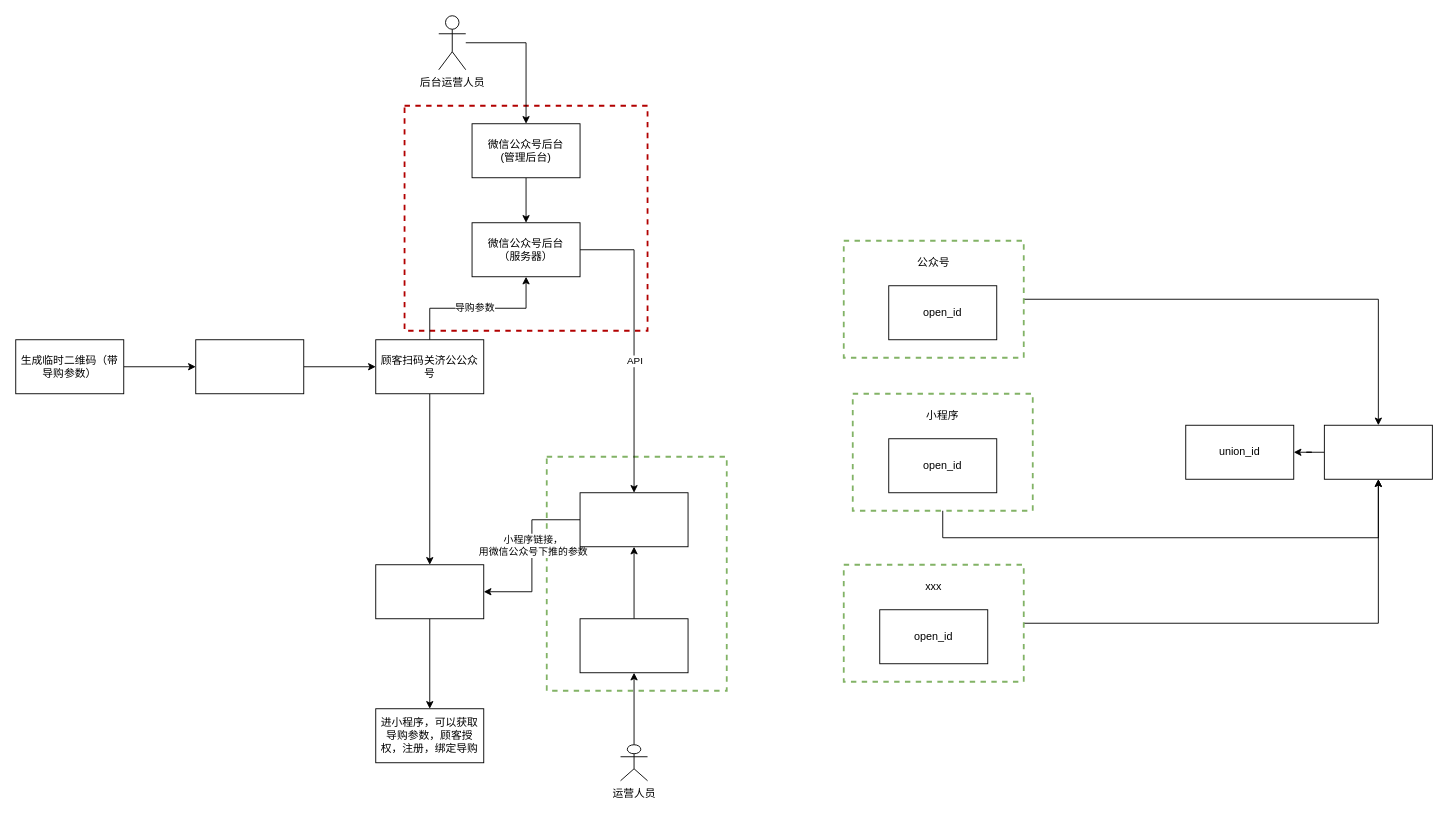
This 1448x815 diagram has some shape labels left out. Each missing label, with the centre of its shape:
"公众号自动回复，发小程序链接，传递二维码上的导购参数" belongs at pixel 429 591.
"加企微好友，欢迎语发送带导购参数的二维码" belongs at pixel 249 366.
"开放平台" belongs at pixel 1377 451.
"接收公众号消息推送 导购参数 （服务器）" belongs at pixel 633 519.
"管理平台" belongs at pixel 633 645.
